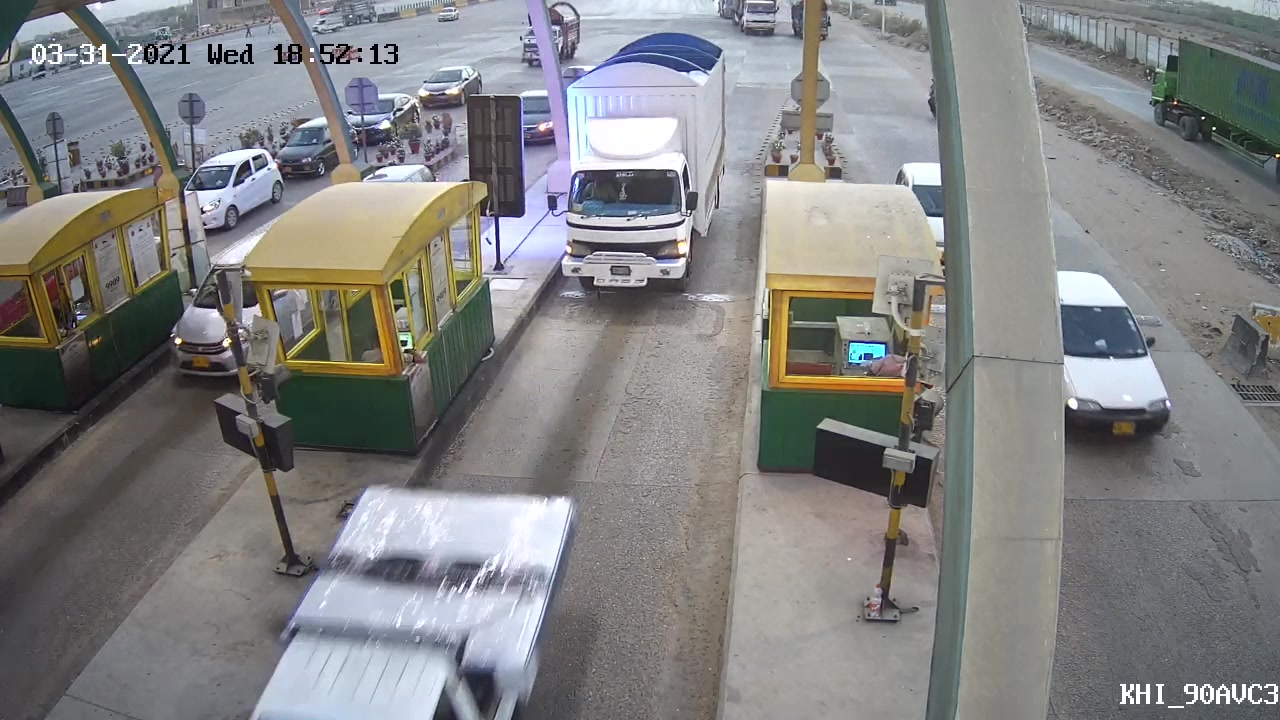F5: (541, 28, 739, 305)
